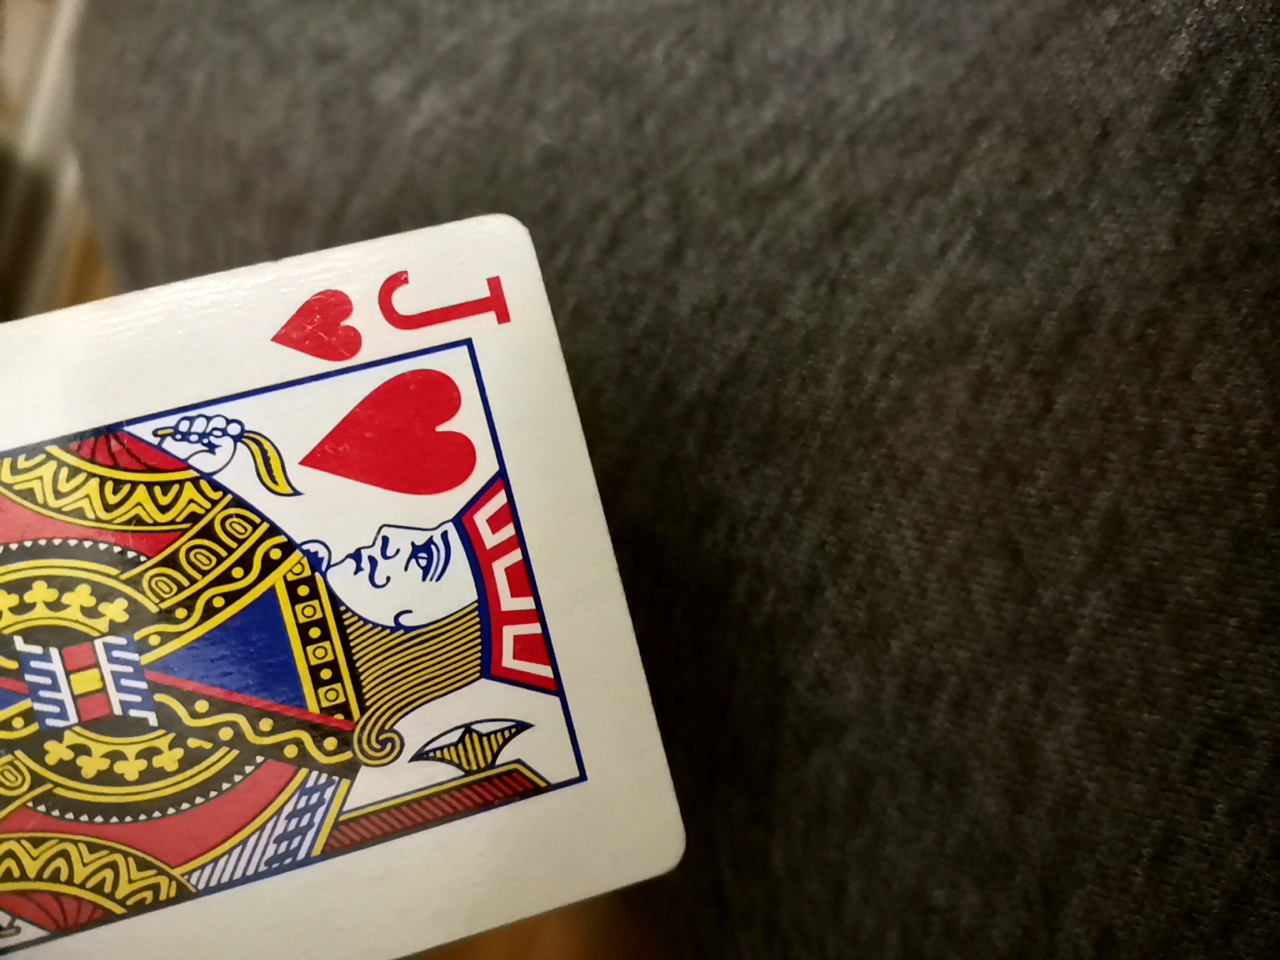hx j: (5, 211, 694, 951)
